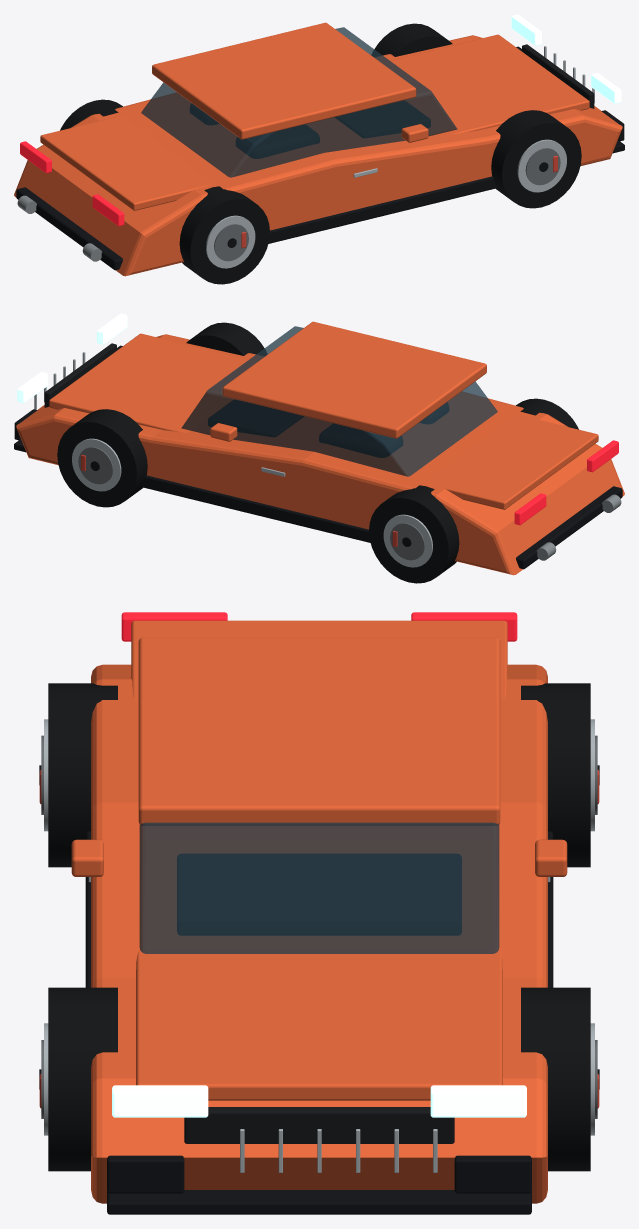
File: lambo_huracan.glb
The picture shows the model from 3 angles, top to bottom: view 1: azimuth 30°, elevation 25°; view 2: azimuth 150°, elevation 25°; view 3: azimuth 270°, elevation 25°; orthographic projection. The views are drawn at different scales.
Visible parts, largest first — view 1: sculpted_body, roof, glasshouse, hood_center, rear_deck, front_right_wheel_tire, rear_right_wheel_tire, side_skirt_1, dashboard, front_left_wheel_tire, seat_1, rear_diffuser (+11 smaller); view 2: sculpted_body, roof, glasshouse, hood_center, rear_deck, front_left_wheel_tire, rear_left_wheel_tire, side_skirt_-1, dashboard, front_right_wheel_tire, seat_-1, rear_diffuser (+11 smaller); view 3: sculpted_body, roof, hood_center, glasshouse, dashboard, front_splitter, front_left_wheel_tire, front_right_wheel_tire, front_grille, rear_left_wheel_tire, rear_right_wheel_tire, rear_deck (+8 smaller).
Boxes of the visible parts, x1=… form: sculpted_body: x1=14, y1=35, x2=622, y2=276; roof: x1=152, y1=22, x2=416, y2=139; glasshouse: x1=141, y1=27, x2=457, y2=177; hood_center: x1=383, y1=34, x2=589, y2=133; rear_deck: x1=40, y1=115, x2=214, y2=210; front_right_wheel_tire: x1=491, y1=110, x2=581, y2=208; rear_right_wheel_tire: x1=179, y1=186, x2=269, y2=284; side_skirt_1: x1=268, y1=176, x2=497, y2=243; dashboard: x1=335, y1=101, x2=430, y2=137; front_left_wheel_tire: x1=372, y1=23, x2=452, y2=56; seat_1: x1=236, y1=125, x2=319, y2=158; rear_diffuser: x1=16, y1=187, x2=122, y2=270; sculpted_body: x1=16, y1=334, x2=624, y2=575; roof: x1=222, y1=321, x2=486, y2=438; glasshouse: x1=181, y1=326, x2=497, y2=476; hood_center: x1=49, y1=333, x2=255, y2=432; rear_deck: x1=424, y1=414, x2=598, y2=509; front_left_wheel_tire: x1=57, y1=409, x2=147, y2=507; rear_left_wheel_tire: x1=369, y1=485, x2=459, y2=583; side_skirt_-1: x1=141, y1=475, x2=370, y2=542; dashboard: x1=208, y1=400, x2=303, y2=436; front_right_wheel_tire: x1=186, y1=322, x2=266, y2=355; seat_-1: x1=319, y1=424, x2=402, y2=457; rear_diffuser: x1=516, y1=486, x2=622, y2=569; sculpted_body: x1=91, y1=664, x2=547, y2=1203; roof: x1=138, y1=637, x2=500, y2=825; hood_center: x1=136, y1=950, x2=502, y2=1100; glasshouse: x1=139, y1=822, x2=499, y2=953; dashboard: x1=177, y1=854, x2=461, y2=934; front_splitter: x1=107, y1=1190, x2=531, y2=1214; front_left_wheel_tire: x1=521, y1=987, x2=590, y2=1171; front_right_wheel_tire: x1=48, y1=987, x2=117, y2=1171; front_grille: x1=184, y1=1107, x2=454, y2=1143; rear_left_wheel_tire: x1=521, y1=683, x2=590, y2=867; rear_right_wheel_tire: x1=48, y1=683, x2=117, y2=867; rear_deck: x1=131, y1=620, x2=507, y2=699.
Bounding box in the file's own units: 4.84 × 1.14 × 2.25.
